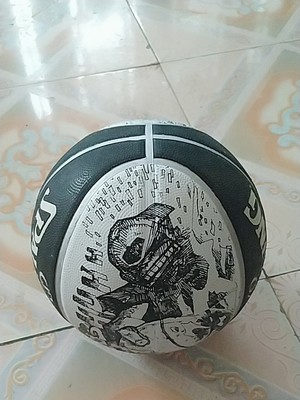ball: (29, 118, 269, 356)
